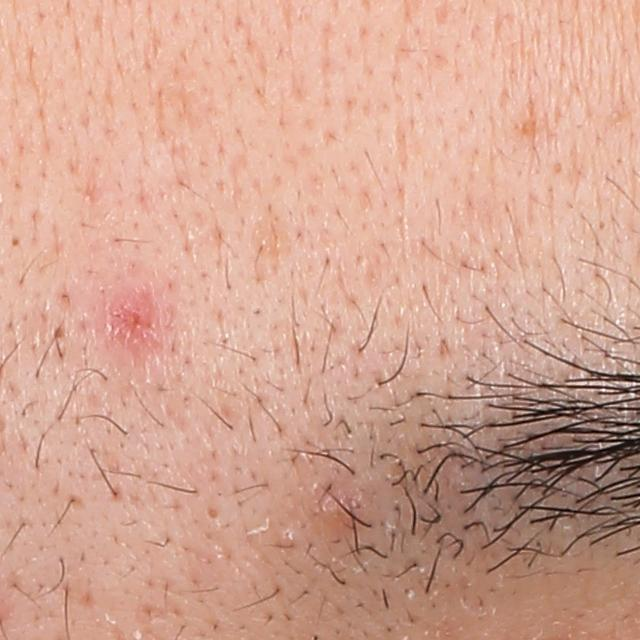comedo: (204, 500, 224, 523)
papule: (113, 289, 160, 346), (323, 486, 363, 527)
